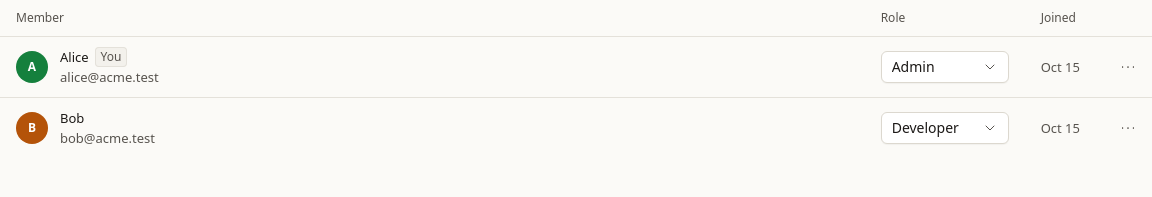
MembersTable › explains why the last admin cannot leave instead of hiding the action
The width and height of the screenshot is (1152, 197).
Click the button named "More actions for Alice" at (1128, 66), box [1112,50,1144,82]
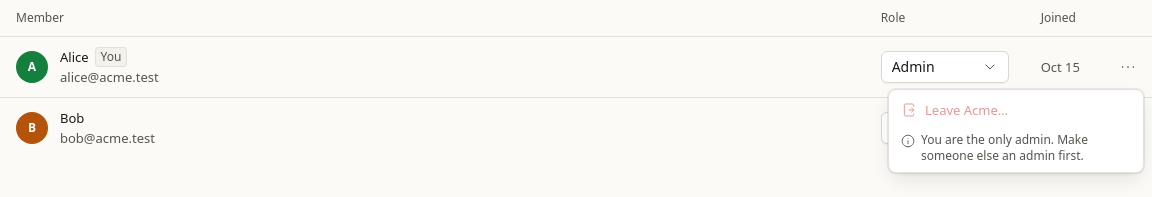
Check: the text "You are the only admin. Make someone else an admin first." is shown, box [901,131,1088,164]
